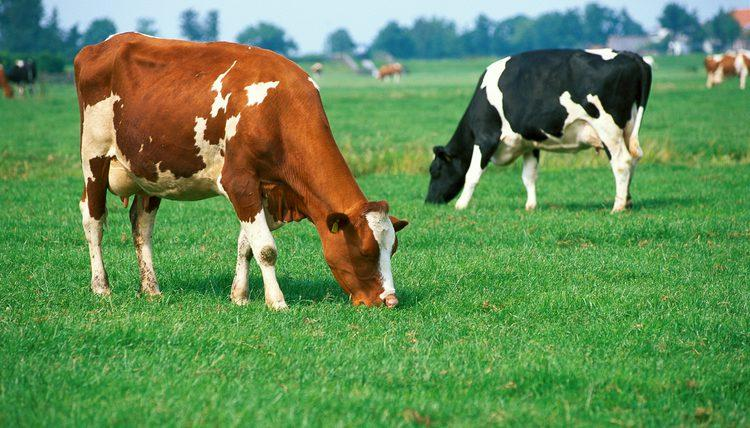cow: (74, 32, 407, 308), (425, 48, 651, 211)
